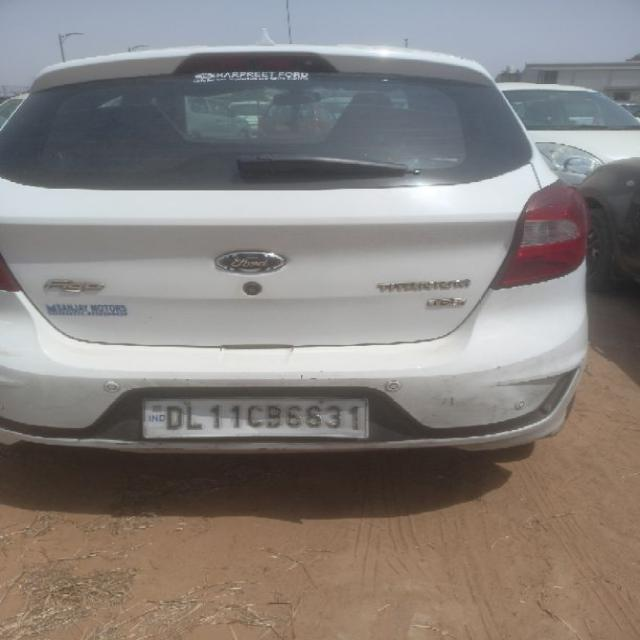license_plate: (139, 395, 369, 440)
